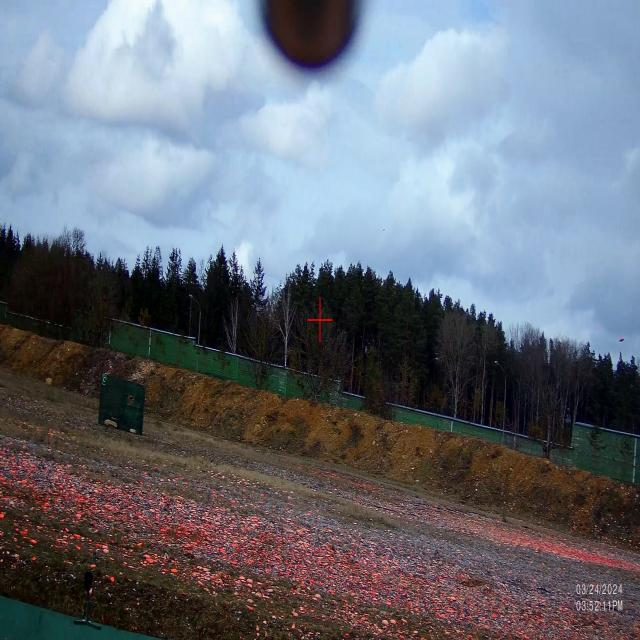entire: (612, 328, 629, 348)
